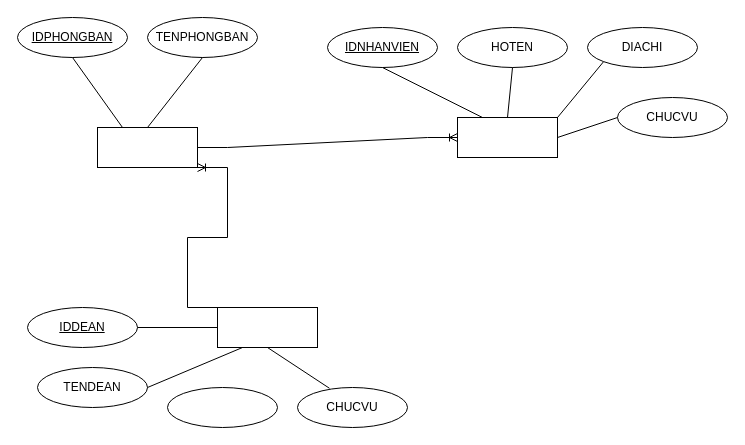
The diagram is 745 pixels wide and 445 high, and some of its shapes have lost their labels. The shapes that lost their labels are listed below. From the top down, each one's centre as x and y in pixels, then its label:
At (x=147, y=147): "PHÒNG BAN".
At (x=507, y=137): "NHÂN VIÊN".
At (x=267, y=327): "ĐỀ ÁN".
At (x=222, y=407): "PHONGBAN".
